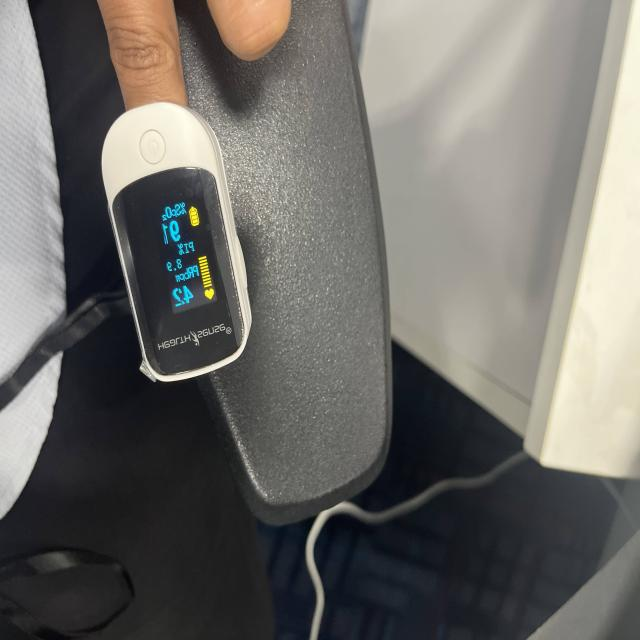spo2: (100, 100, 254, 386)
